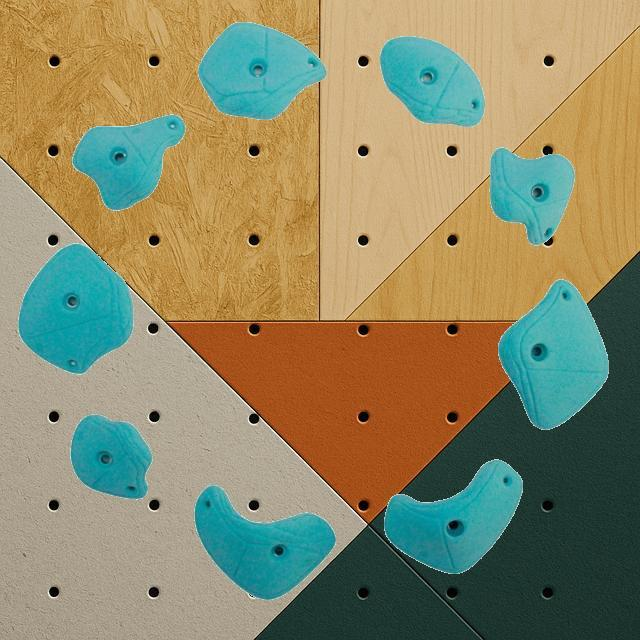Jug: (497, 278, 609, 429), (194, 484, 336, 600), (383, 458, 523, 574), (17, 242, 133, 374), (197, 20, 327, 120), (71, 114, 185, 210), (379, 35, 485, 127), (489, 147, 575, 246), (70, 413, 152, 499)
